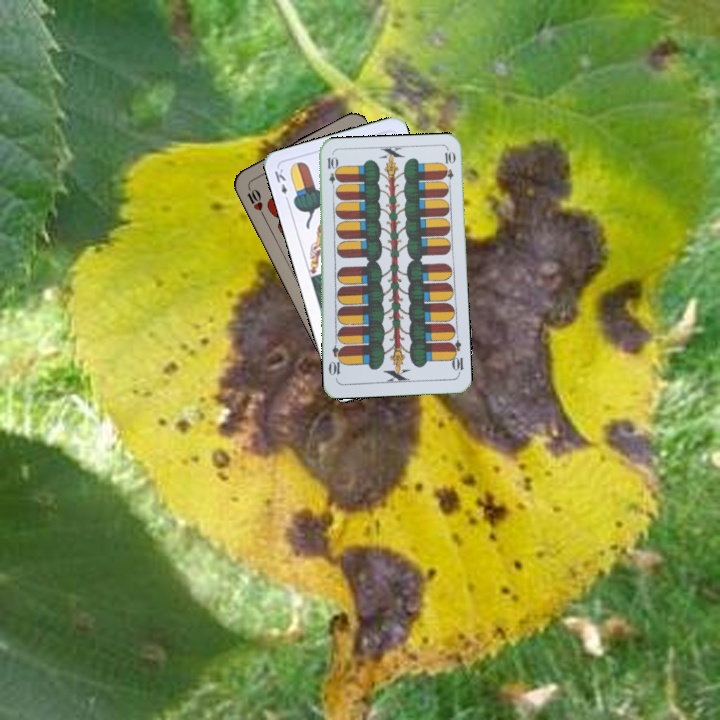E10: (446, 336, 466, 377), (323, 153, 338, 193)
EK: (270, 164, 292, 205)
H10: (243, 181, 267, 219)
